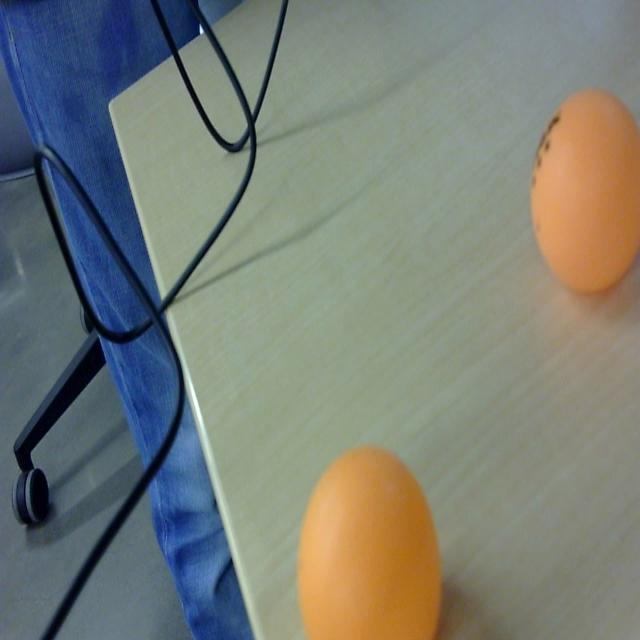ball: (297, 440, 446, 640), (528, 87, 640, 300)
